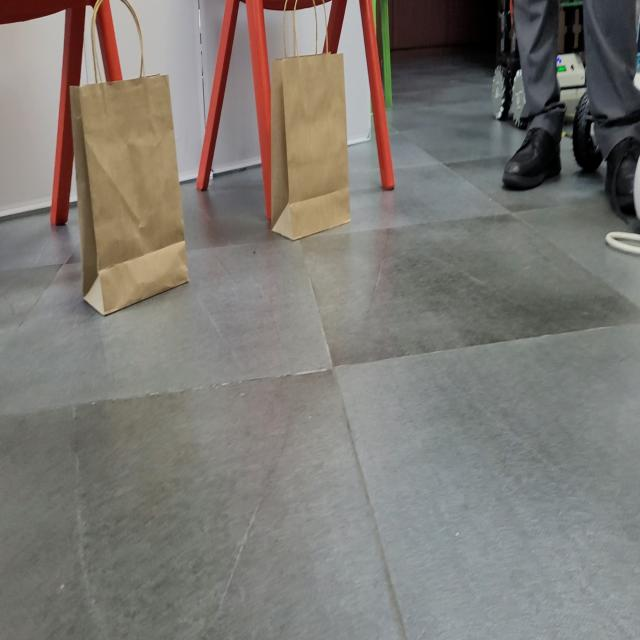paper bag: (65, 0, 188, 318), (265, 0, 352, 241)
